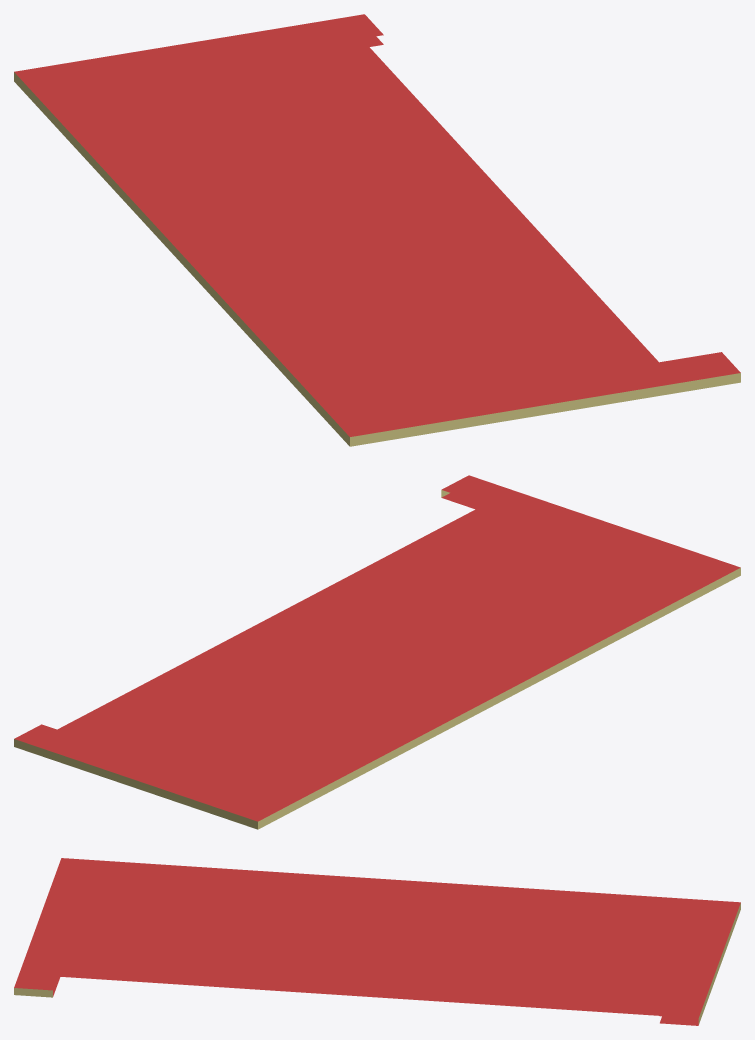
3 renders of one model, top to bottom at view 1: azimuth 30°, elevation 25°; view 2: azimuth 150°, elevation 25°; view 3: azimuth 270°, elevation 25°, orthographic. The views are drawn at different scales.
Size of the model in its own units: 4.83 by 9.23 by 0.1.
